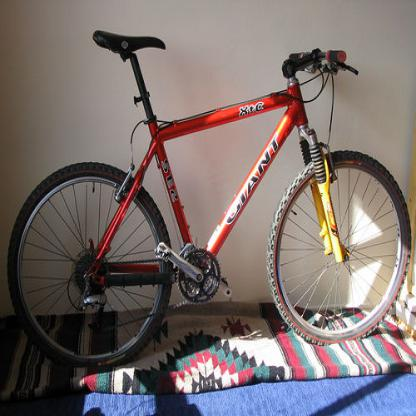bicycle: (6, 28, 412, 369)
